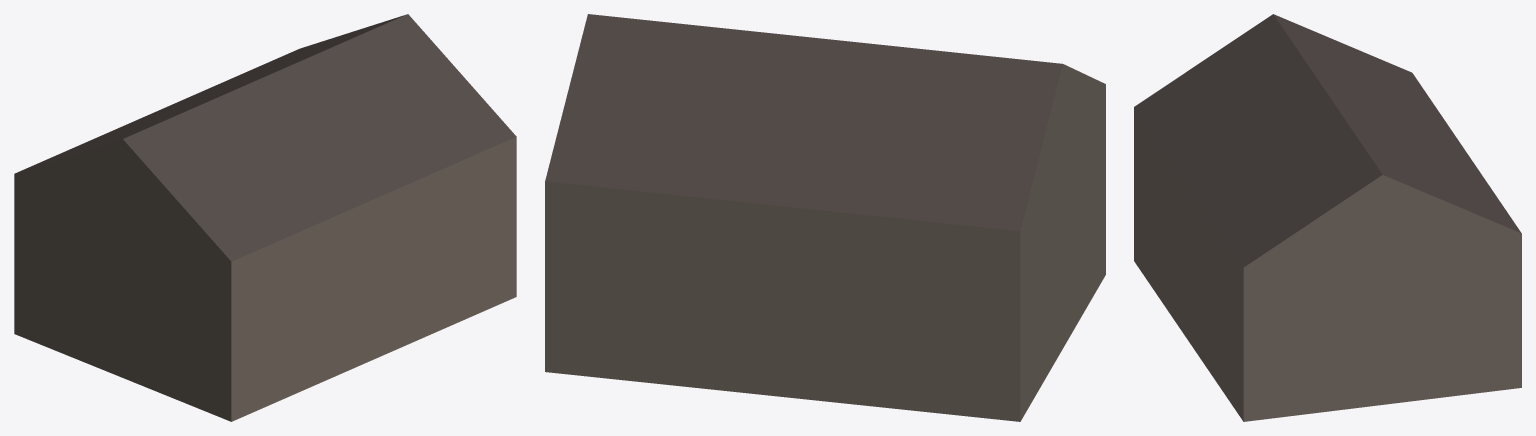
The picture shows the model from 3 angles, left to right: view 1: azimuth 30°, elevation 25°; view 2: azimuth 150°, elevation 25°; view 3: azimuth 270°, elevation 25°; orthographic projection. The views are drawn at different scales.
Parts seen in each view (by area): view 1: HP-w435452356; view 2: HP-w435452356; view 3: HP-w435452356.
Part boxes in pixels (x1,y1,x2,y2): HP-w435452356: (14, 14, 516, 421); HP-w435452356: (545, 14, 1105, 421); HP-w435452356: (1134, 14, 1521, 421).
Size of the model in its own units: 24.39 by 13.42 by 20.5.
